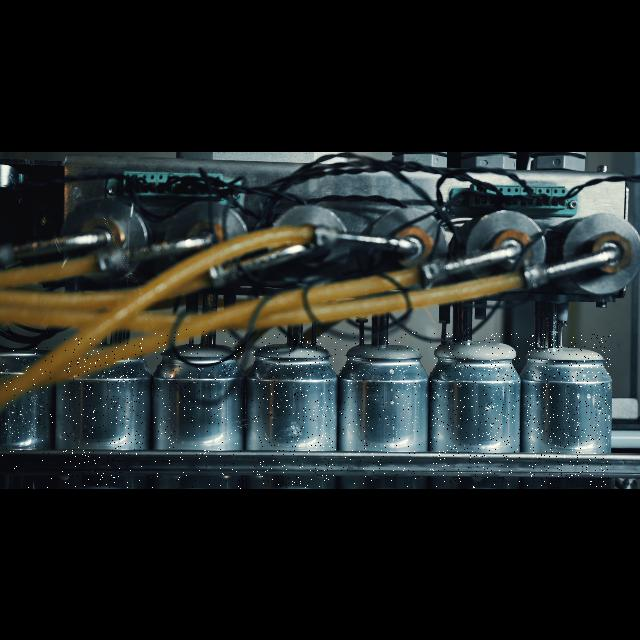empty: (62, 338, 144, 488), (0, 340, 54, 488)
full: (152, 329, 242, 489), (430, 332, 520, 488), (252, 334, 336, 488), (527, 334, 611, 488), (340, 332, 420, 488)
